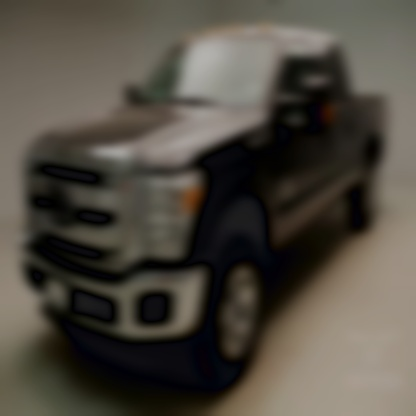Vehicle: (20, 25, 388, 394)
